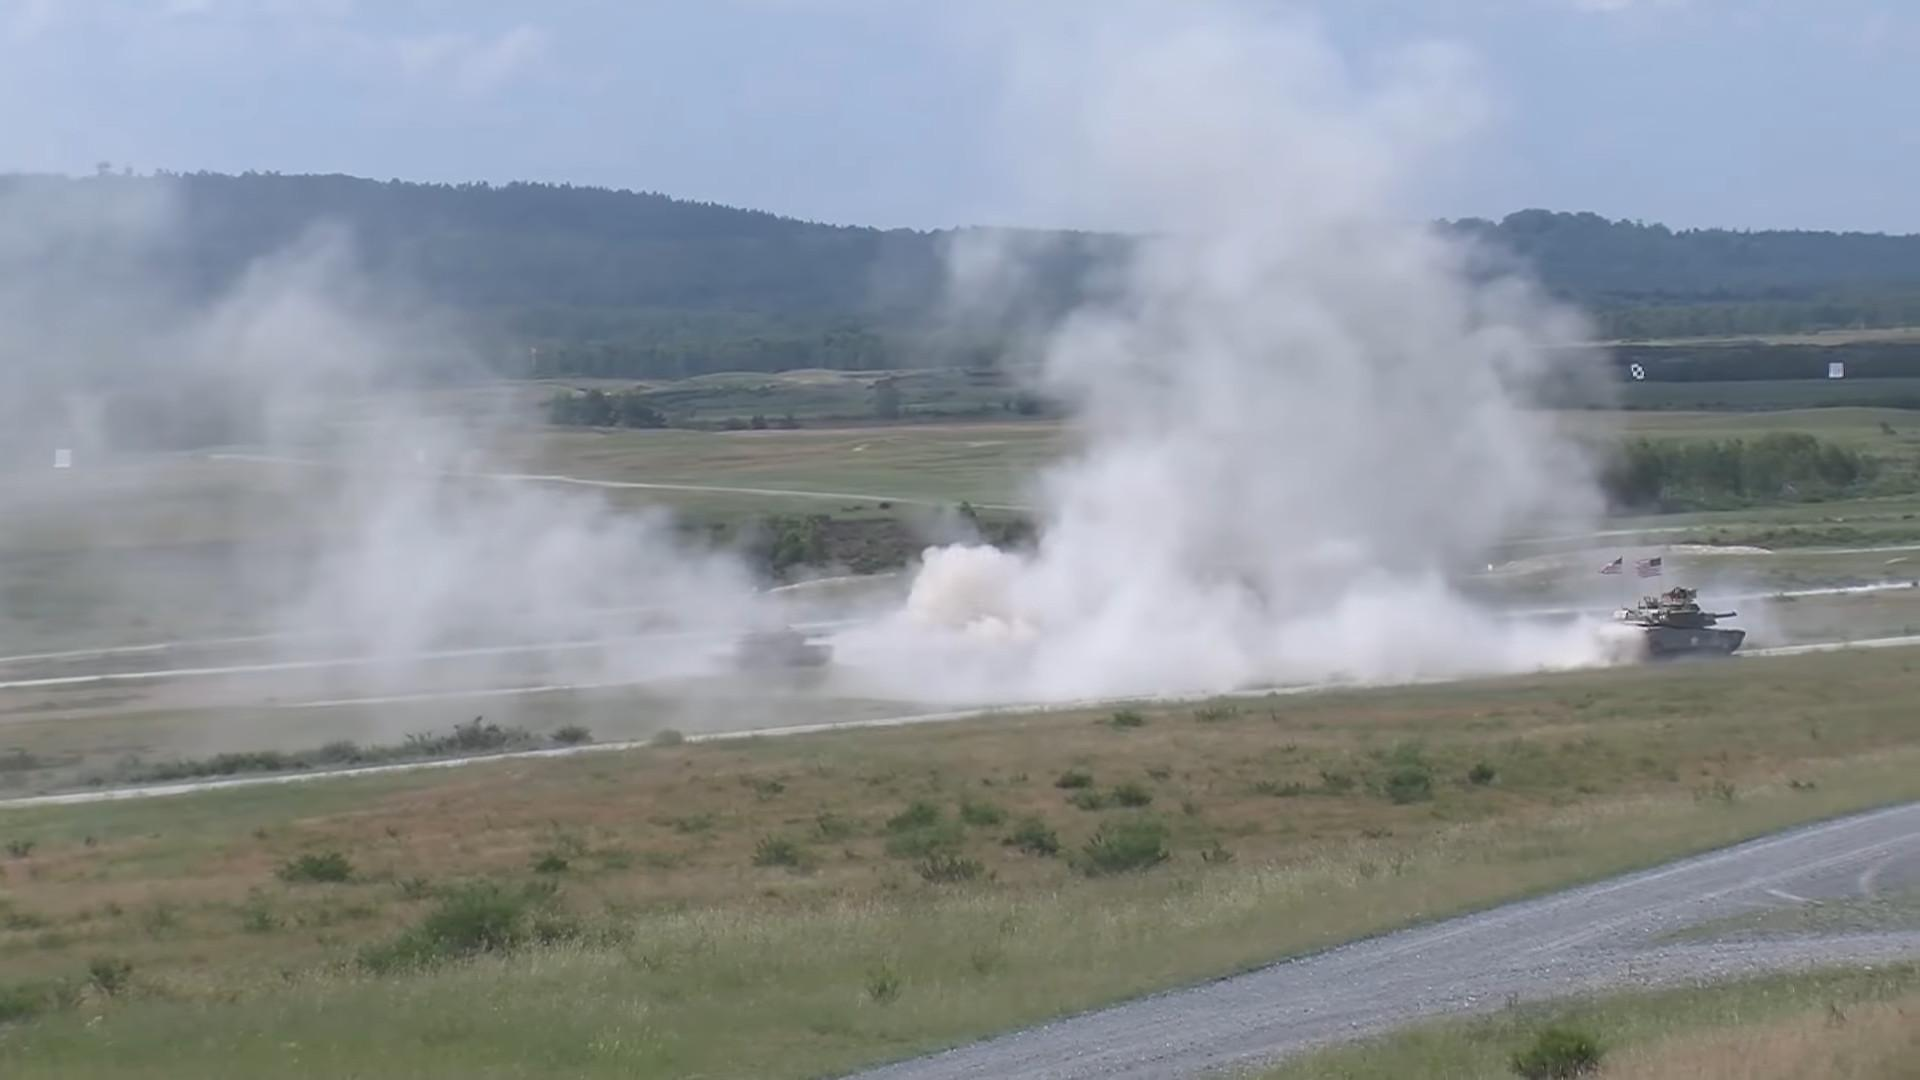tank: (1613, 588, 1746, 657), (741, 628, 835, 663)
